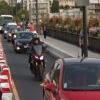Motorcycle: (21, 35, 54, 85)
